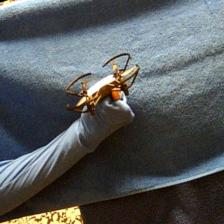drone: (62, 51, 140, 118)
